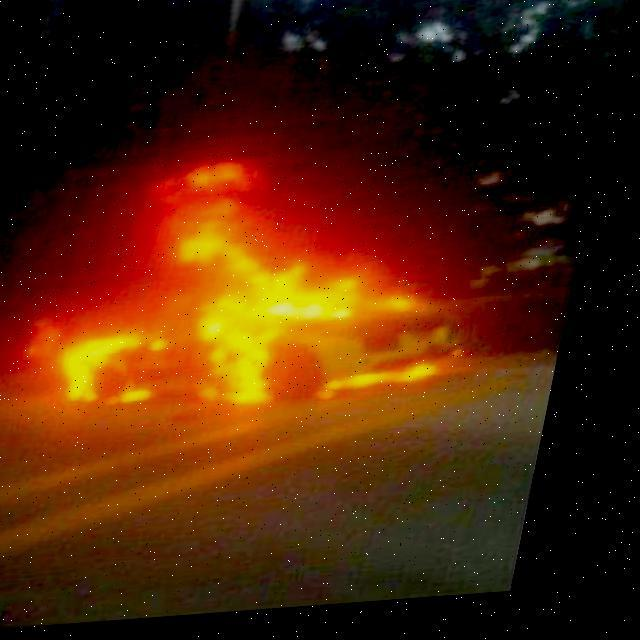Fire: (51, 148, 508, 422)
